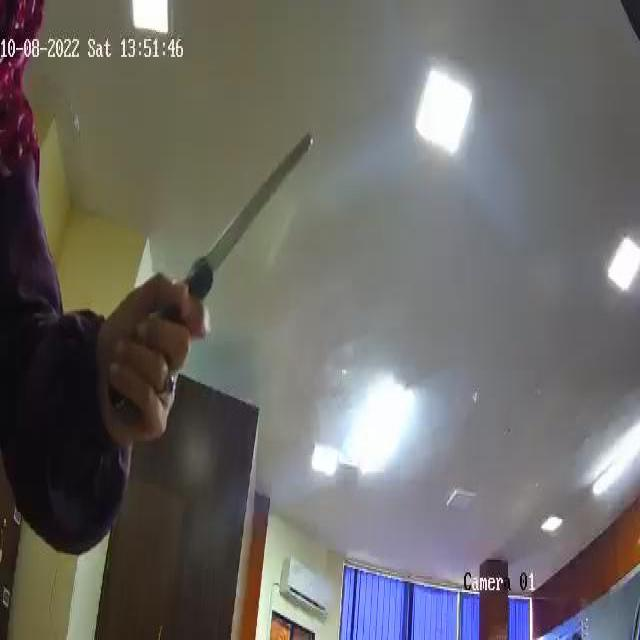weapon: (108, 128, 313, 418)
